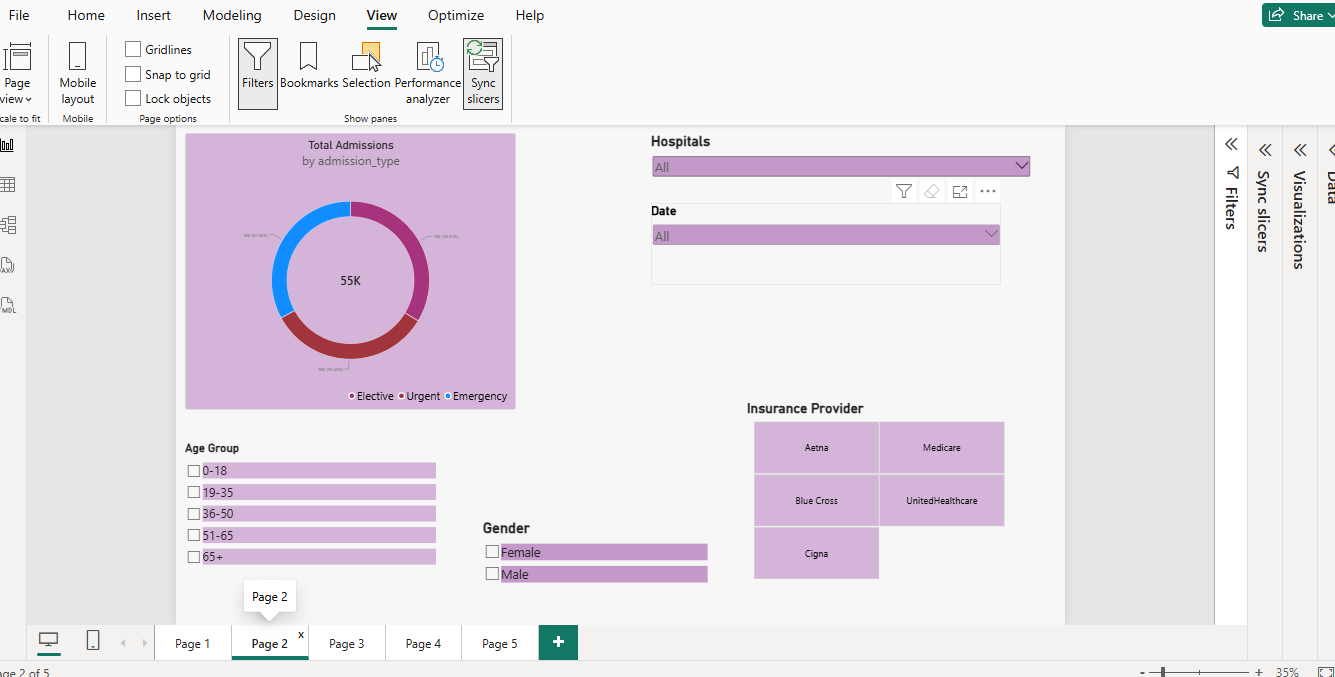

The dashboard page shown, as its layout file describes it:
{"tool":"powerbi","page":{"name":"Page 2","canvas":[2560,1440],"ordinal":1},"visuals":[{"type":"donutChart","fields":{"Category":["admission.admission_type"],"Y":["admission.Total Admissions"]},"box":[26.7,23.3,953.3,796.7],"z":0},{"type":"slicer","title":"Hospitals","fields":{"Values":["admission.hospital"]},"box":[1366.7,23.3,1096.7,166.7],"z":1000},{"type":"slicer","title":"Insurance Provider","fields":{"Values":["admission.insurance_provider"]},"box":[1643.3,793.3,760,516.7],"z":2000},{"type":"slicer","title":"Gender","fields":{"Values":["admission.gender"]},"box":[883.3,1133.3,646.7,266.7],"z":3000},{"type":"slicer","title":"Age Group","fields":{"Values":["admission.age_group"]},"box":[26.7,910,723.3,400],"z":4000},{"type":"slicer","title":"Date","fields":{"Values":["date_table.Date"]},"box":[1366.7,223.3,1010,236.7],"z":5000}]}

Visuals, with their boxes on the page's 2560x1440 design canvas (x1, y1, x2, y2). These are canvas units, not pixel positions in the 1335x677 screenshot, which may show the page scaled, cropped or inside an application window:
donutChart - admission.admission_type x admission.Total Admissions: BBox(27, 23, 980, 820)
"Hospitals" slicer: BBox(1367, 23, 2463, 190)
"Insurance Provider" slicer: BBox(1643, 793, 2403, 1310)
"Gender" slicer: BBox(883, 1133, 1530, 1400)
"Age Group" slicer: BBox(27, 910, 750, 1310)
"Date" slicer: BBox(1367, 223, 2377, 460)
